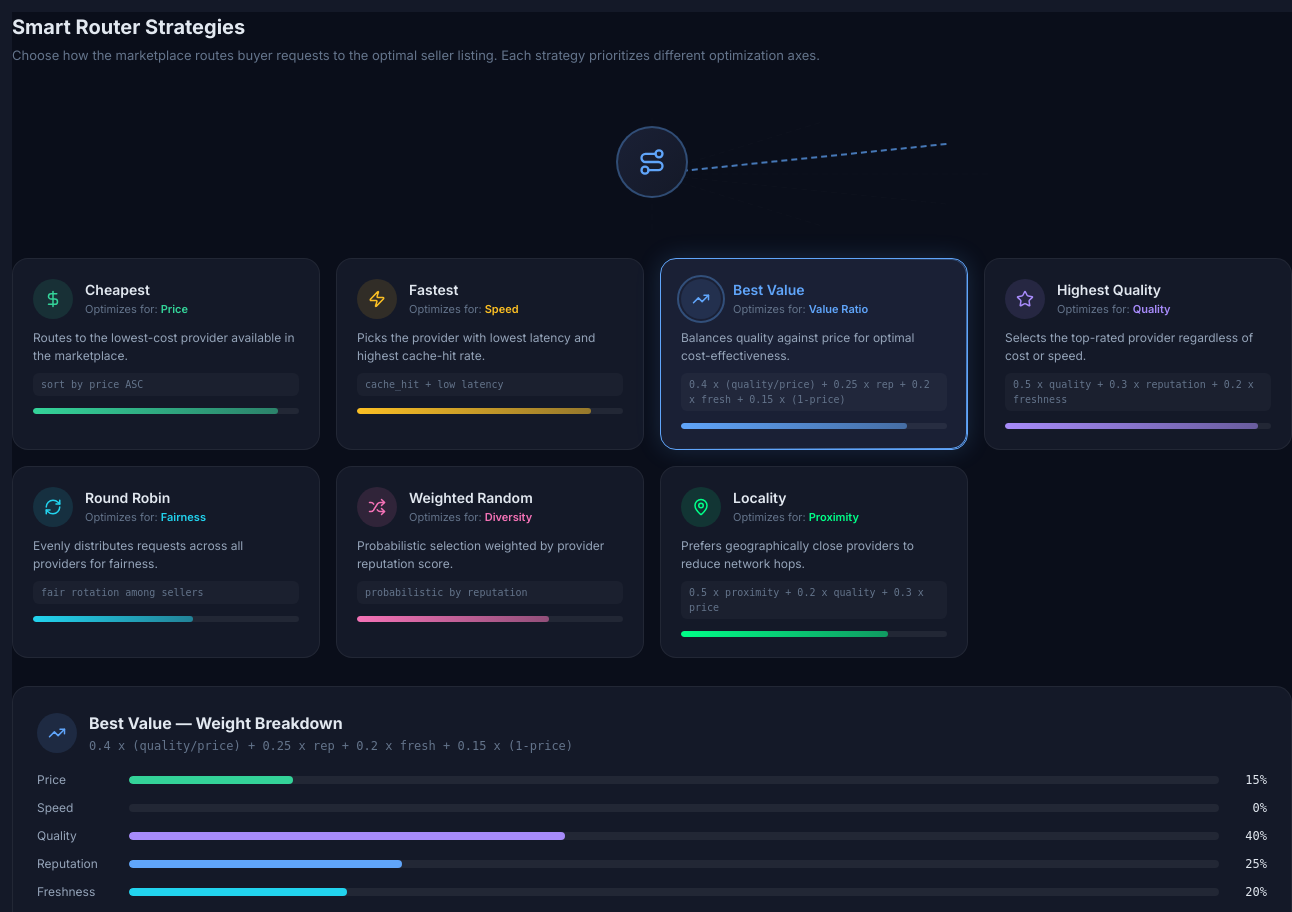
Test: SmartRouterViz › switches to Cheapest strategy on card click and updates detail pane
Note: Click the Cheapest card
Click the text "Cheapest" at [118, 290], box left=85, top=281, right=150, bottom=298
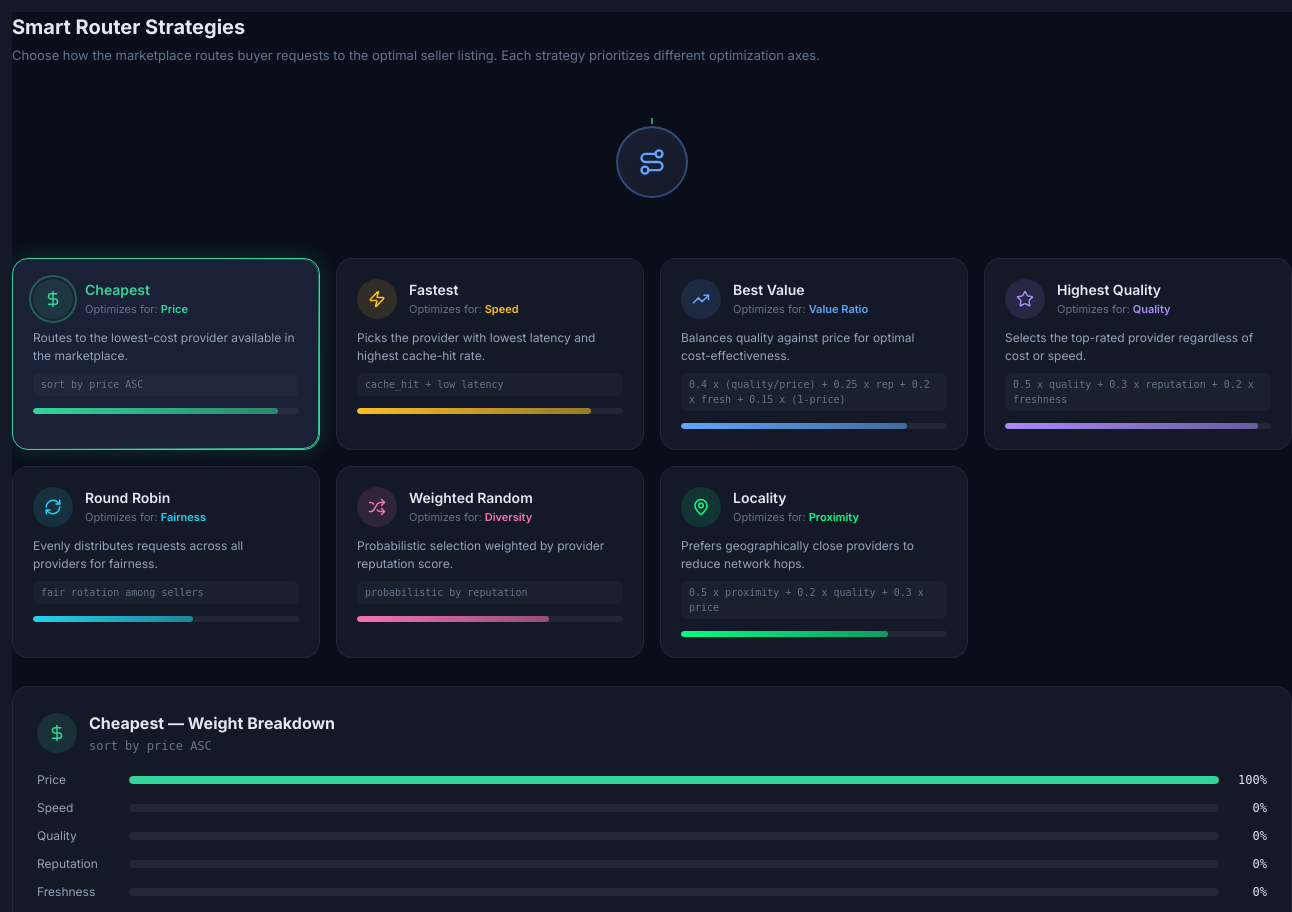
Check: the heading "Cheapest — Weight Breakdown" is shown, box left=89, top=710, right=335, bottom=734
